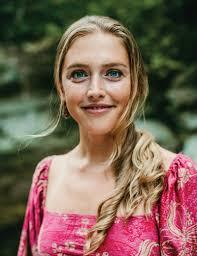person: (54, 11, 144, 141)
